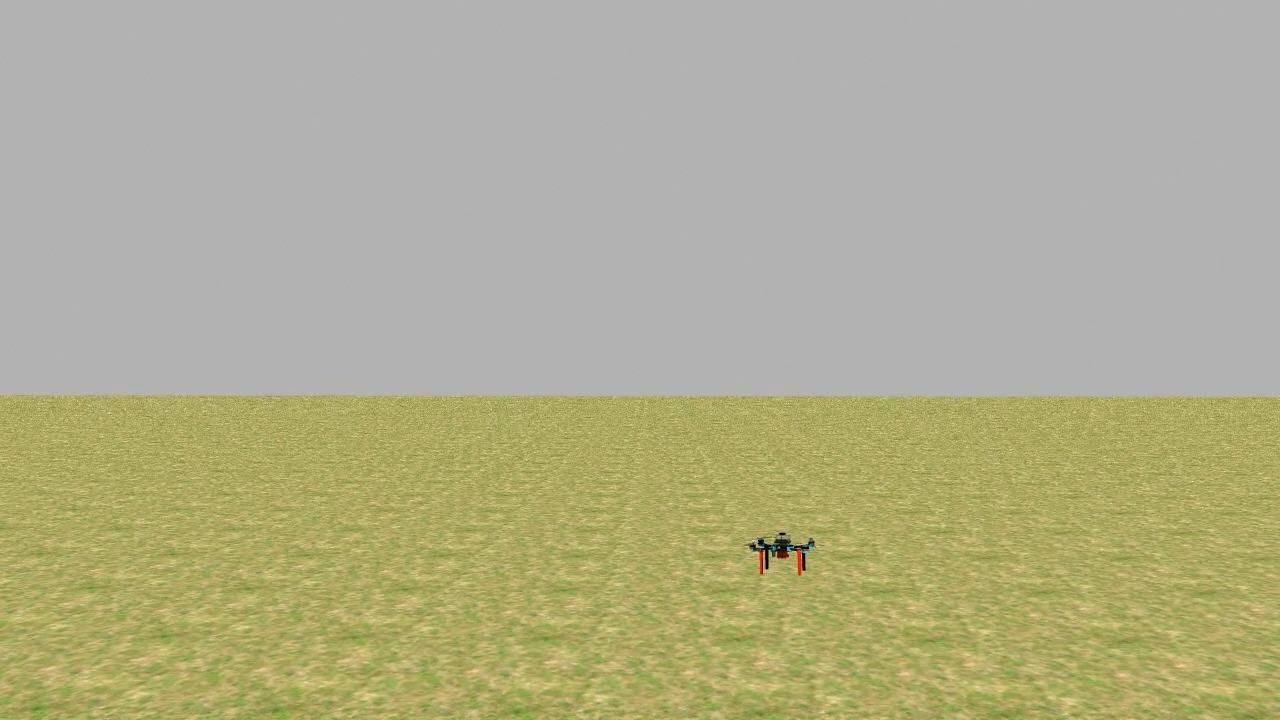UAV: (732, 510, 840, 585)
